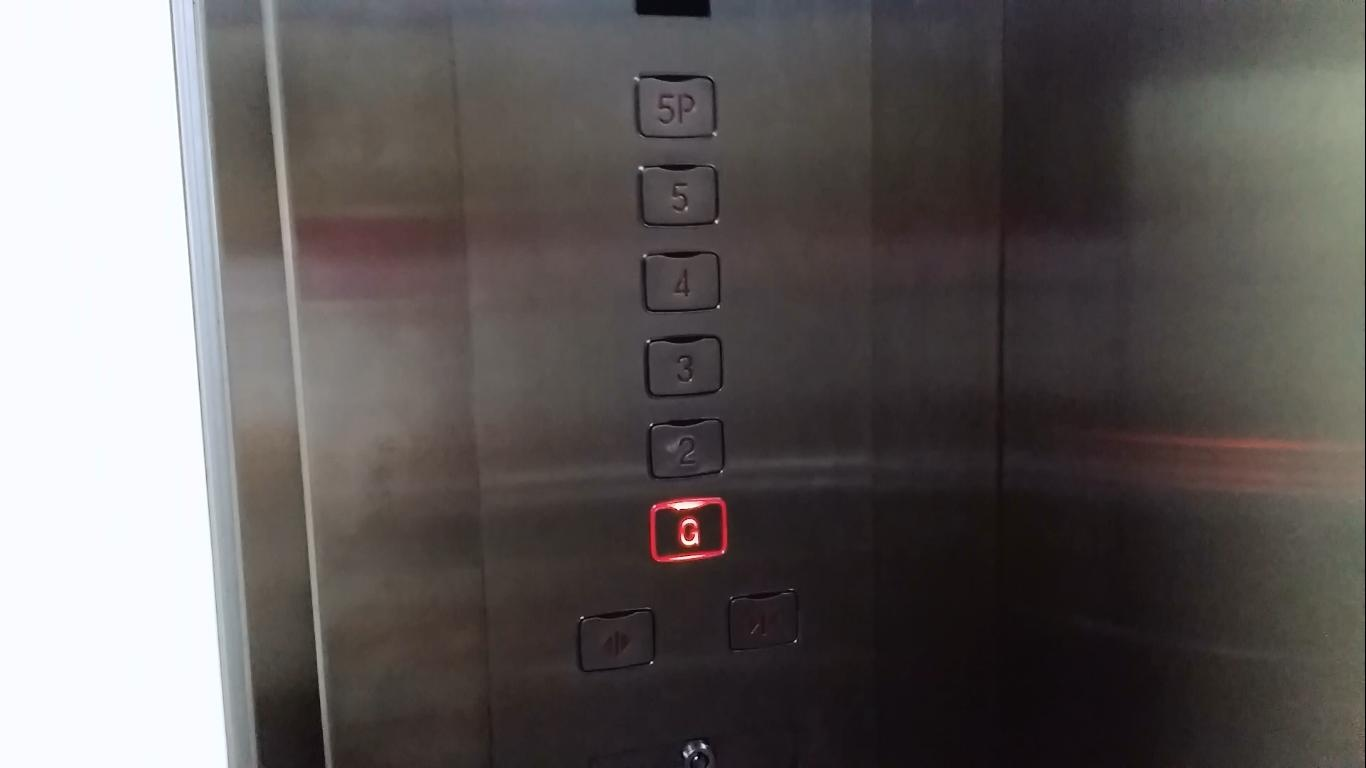2: (645, 413, 726, 482)
3: (639, 333, 728, 399)
4: (634, 246, 730, 314)
5: (632, 160, 728, 231)
5P: (631, 70, 721, 146)
G: (647, 498, 730, 570)
close: (723, 586, 808, 656)
open: (571, 607, 663, 673)
